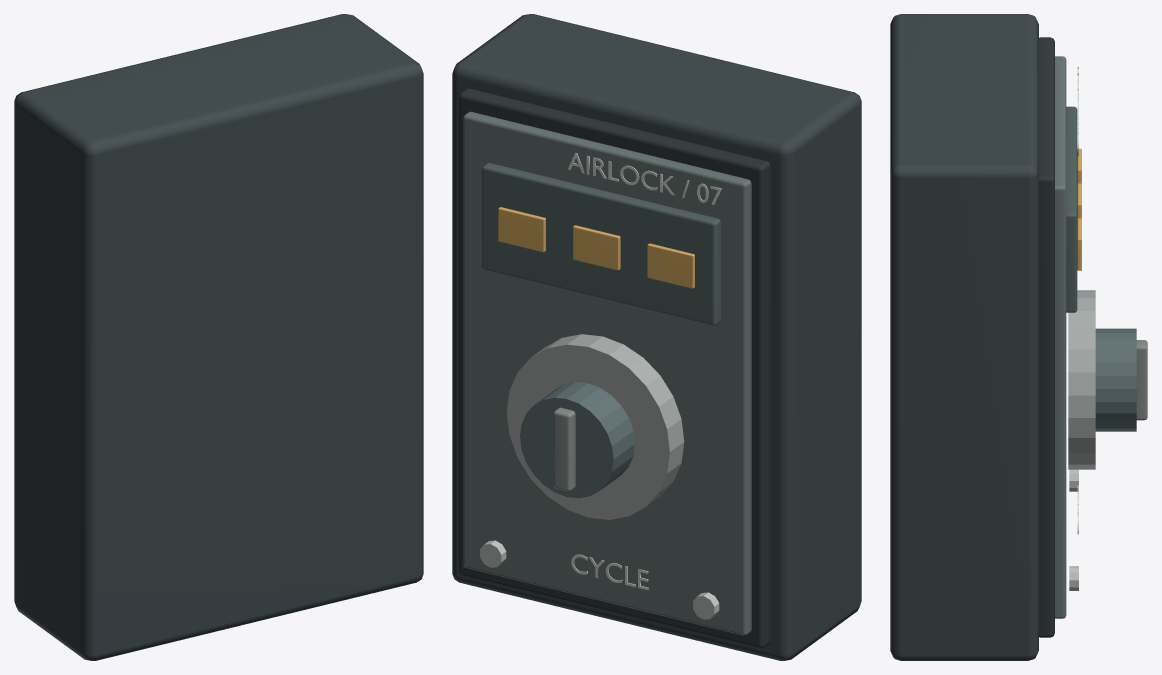
The model's file is airlock_cycle_panel.glb.
3 renders of one model, left to right at view 1: azimuth 30°, elevation 25°; view 2: azimuth 150°, elevation 25°; view 3: azimuth 270°, elevation 25°, orthographic. The views are drawn at different scales.
Visible parts, largest first — view 1: VIS_airlock_cycle_panel_enclosure; view 2: VIS_airlock_cycle_panel_enclosure, VIS_airlock_cycle_panel_face, VIS_airlock_cycle_panel_gasket, VIS_airlock_cycle_panel_status_window, VIS_airlock_cycle_panel_selector_bezel, VIS_airlock_cycle_panel_selector, VIS_airlock_cycle_panel_selector_grip, VIS_airlock_cycle_panel_window_segment_-0.105, VIS_airlock_cycle_panel_window_segment_0, VIS_airlock_cycle_panel_window_segment_0.105, VIS_airlock_cycle_panel_id, VIS_airlock_cycle_panel_cycle; view 3: VIS_airlock_cycle_panel_enclosure, VIS_airlock_cycle_panel_gasket, VIS_airlock_cycle_panel_face, VIS_airlock_cycle_panel_selector_bezel, VIS_airlock_cycle_panel_selector, VIS_airlock_cycle_panel_status_window, VIS_airlock_cycle_panel_selector_grip.
Boxes of the visible parts, box(x1,y1,x2,y2) form: VIS_airlock_cycle_panel_enclosure: box(14, 14, 423, 660); VIS_airlock_cycle_panel_enclosure: box(452, 14, 861, 660); VIS_airlock_cycle_panel_face: box(463, 111, 751, 635); VIS_airlock_cycle_panel_gasket: box(459, 88, 770, 647); VIS_airlock_cycle_panel_status_window: box(482, 163, 720, 325); VIS_airlock_cycle_panel_selector_bezel: box(506, 334, 684, 519); VIS_airlock_cycle_panel_selector: box(520, 382, 635, 498); VIS_airlock_cycle_panel_selector_grip: box(553, 407, 575, 491); VIS_airlock_cycle_panel_window_segment_-0.105: box(647, 243, 694, 288); VIS_airlock_cycle_panel_window_segment_0: box(573, 225, 620, 270); VIS_airlock_cycle_panel_window_segment_0.105: box(498, 207, 545, 252); VIS_airlock_cycle_panel_id: box(567, 152, 721, 205); VIS_airlock_cycle_panel_cycle: box(571, 554, 648, 590); VIS_airlock_cycle_panel_enclosure: box(890, 14, 1038, 660); VIS_airlock_cycle_panel_gasket: box(1039, 37, 1054, 637); VIS_airlock_cycle_panel_face: box(1055, 56, 1066, 618); VIS_airlock_cycle_panel_selector_bezel: box(1068, 290, 1095, 469); VIS_airlock_cycle_panel_selector: box(1095, 328, 1136, 431); VIS_airlock_cycle_panel_status_window: box(1066, 106, 1077, 312); VIS_airlock_cycle_panel_selector_grip: box(1136, 340, 1147, 420).
Size of the model in its own units: 0.48 by 0.7 by 0.329.
